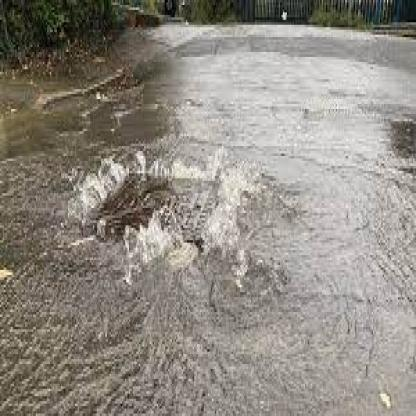drainage overflow-repair-: (43, 102, 279, 352)
